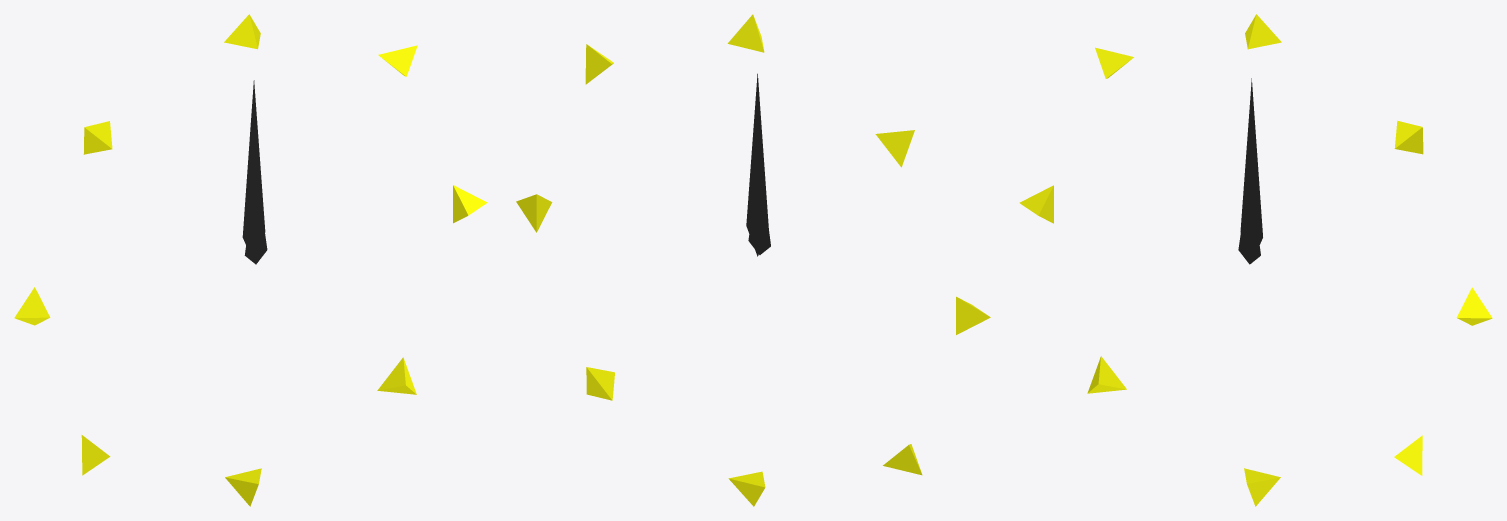
File: uvmd-0236.glb
3 renders of one model, left to right at view 1: azimuth 30°, elevation 25°; view 2: azimuth 150°, elevation 25°; view 3: azimuth 330°, elevation 25°, orthographic.
Parts seen in each view (by area): view 1: uvmd-0236; view 2: uvmd-0236; view 3: uvmd-0236.
Boxes of the visible parts, bbox=[...] form: uvmd-0236: bbox=[14, 14, 487, 506]; uvmd-0236: bbox=[516, 14, 990, 506]; uvmd-0236: bbox=[1019, 14, 1492, 506].
Bounding box in the file's own units: 4092 × 4064 × 273.
Materials: 1 (1 with a texture image).
